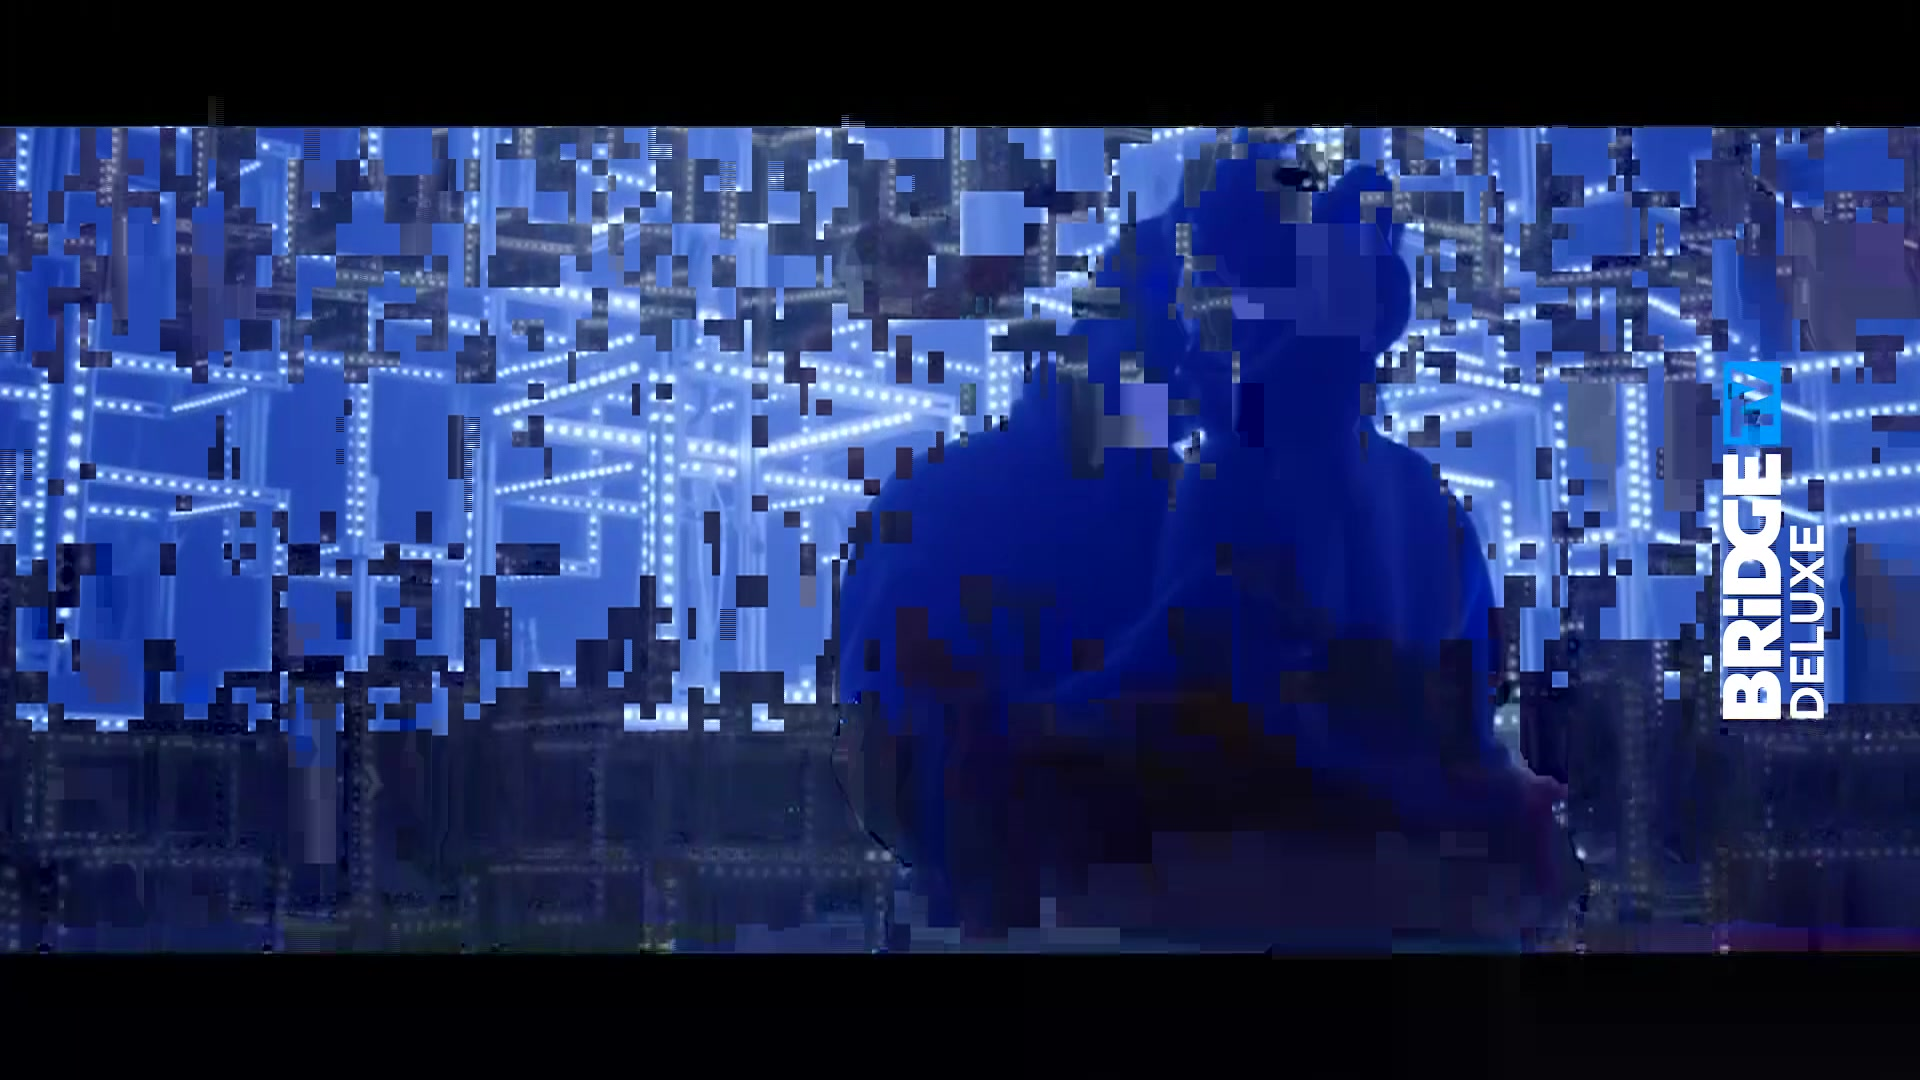Bridge_TV_Deluxe: (1716, 353, 1830, 727)
